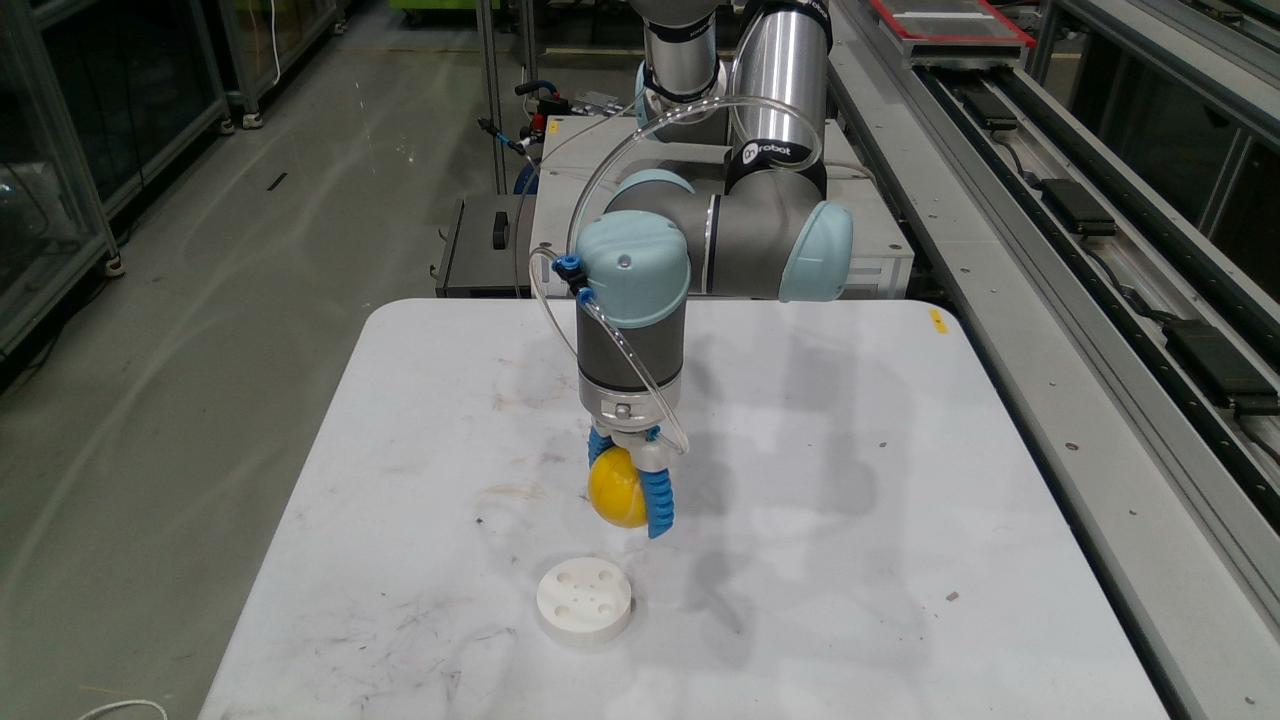UR5: (575, 0, 854, 473)
gripper_left: (587, 426, 617, 467)
gripper_right: (638, 468, 674, 538)
target: (536, 557, 634, 647), (588, 445, 647, 528)
